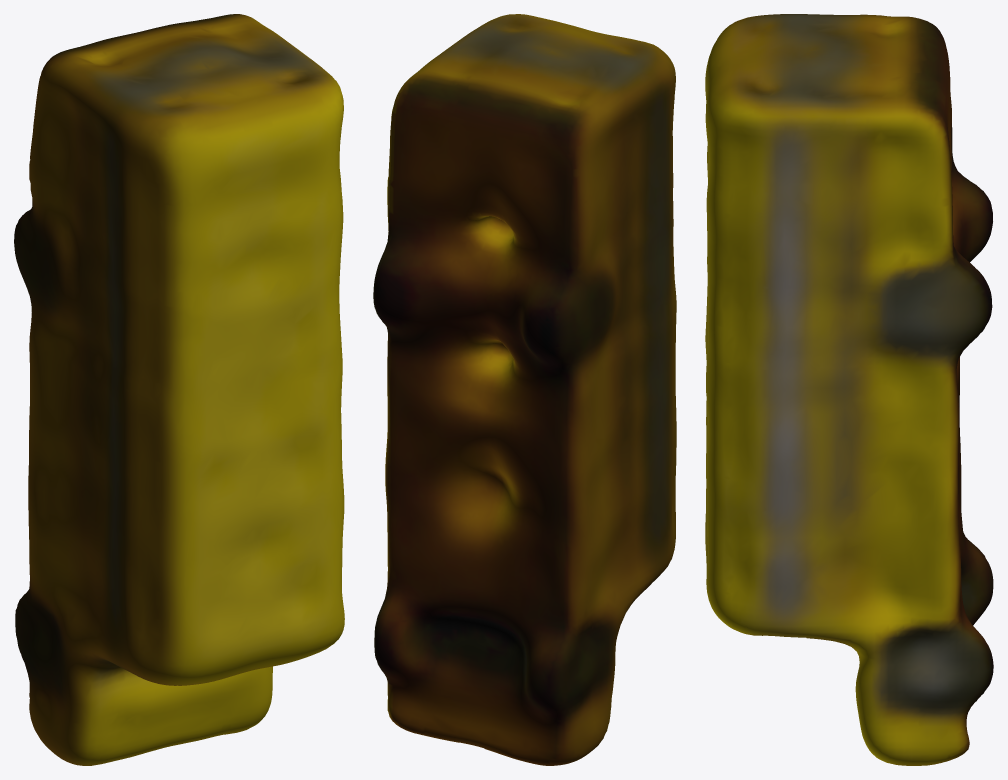
Rendered from school_bus1.glb.
3 renders of one model, left to right at view 1: azimuth 30°, elevation 25°; view 2: azimuth 150°, elevation 25°; view 3: azimuth 270°, elevation 25°, orthographic. The views are drawn at different scales.
Size of the model in its own units: 0.3218 by 0.9996 by 0.3848.
